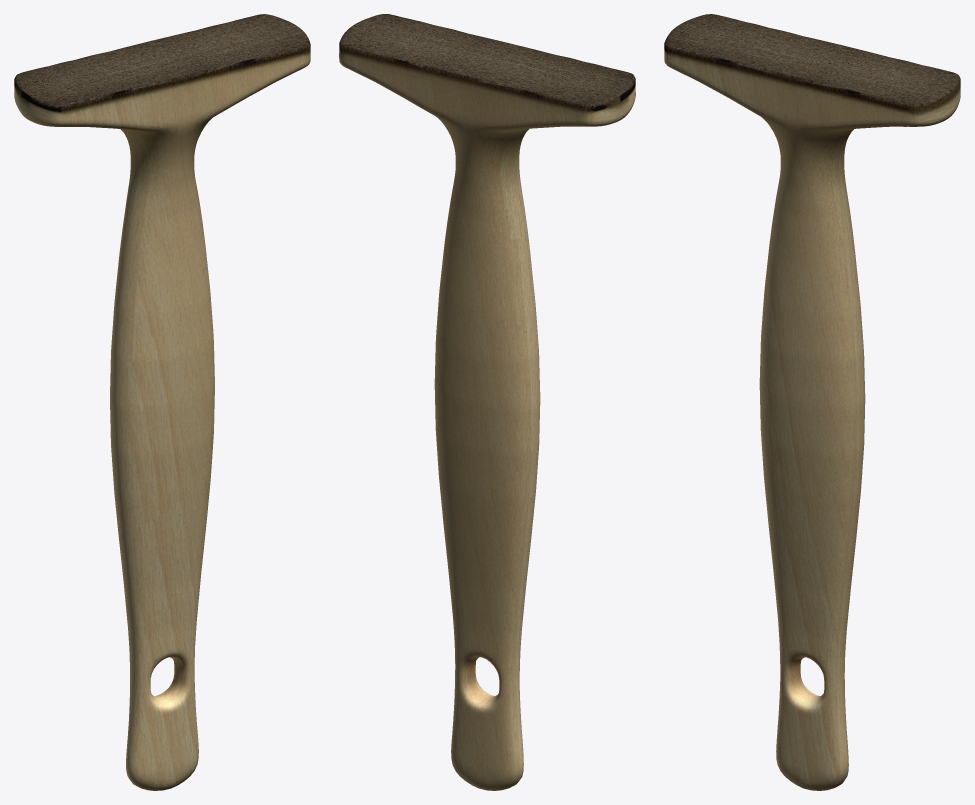
File: shoubing3.glb
The picture shows the model from 3 angles, left to right: view 1: azimuth 30°, elevation 25°; view 2: azimuth 150°, elevation 25°; view 3: azimuth 330°, elevation 25°; orthographic projection.
Parts seen in each view (by area): view 1: shoubing3; view 2: shoubing3; view 3: shoubing3.
Boxes of the visible parts, x1,y1,x2,y2 form: shoubing3: (14, 14, 310, 790); shoubing3: (339, 14, 635, 790); shoubing3: (664, 14, 960, 790).
Bounding box in the file's own units: 0.497 × 1.26 × 0.1454.
Materials: 1 (1 with a texture image).
